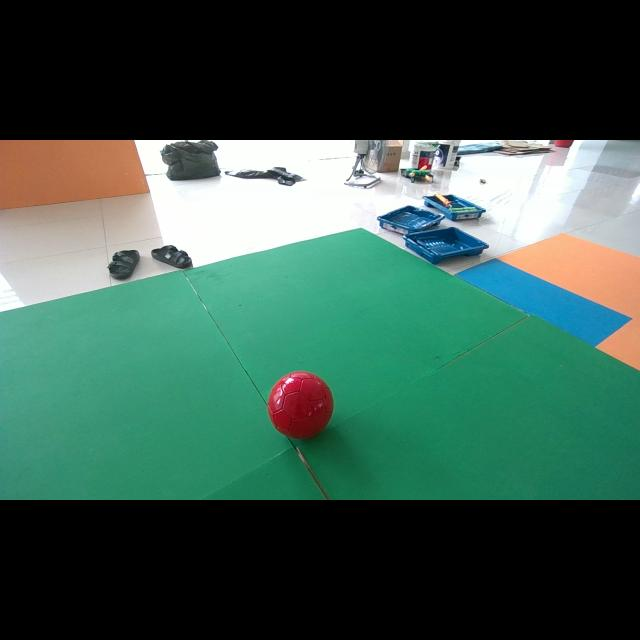P: (268, 371, 334, 439)
